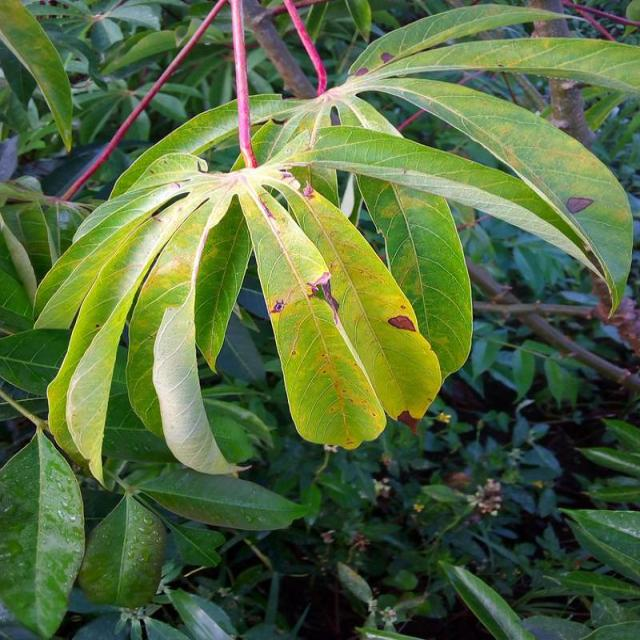cassava leaf: (29, 6, 634, 496), (0, 424, 86, 638)
